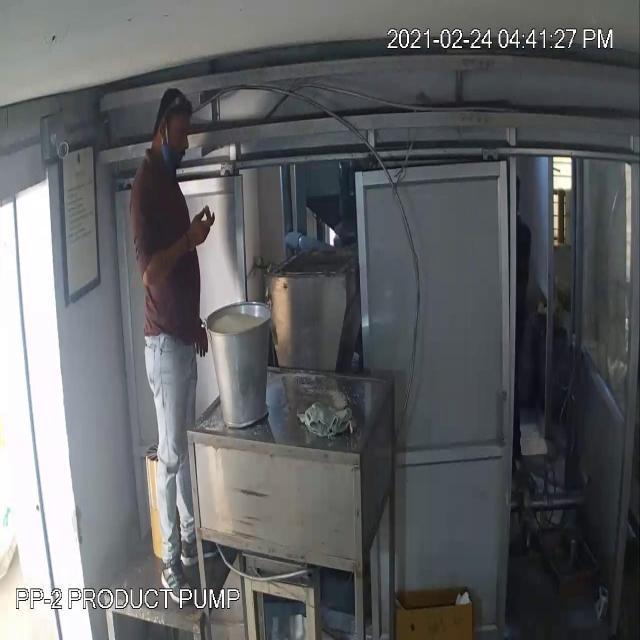no-helmet: (155, 86, 193, 161)
